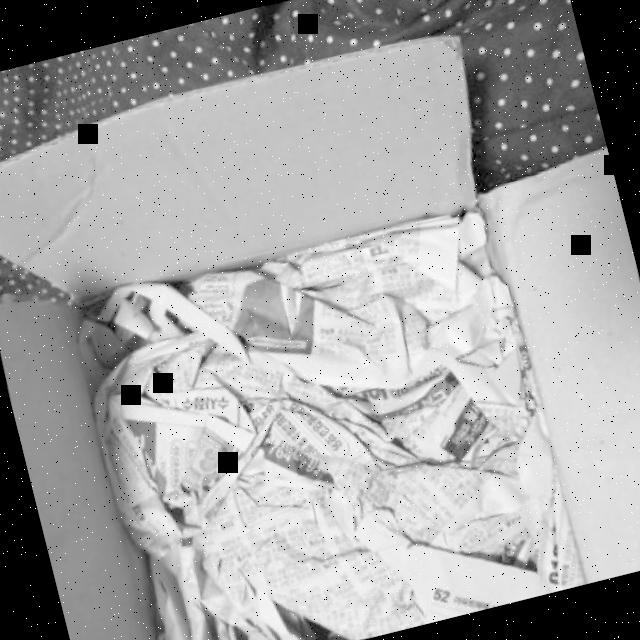reuseable_paper: (72, 211, 570, 640)
